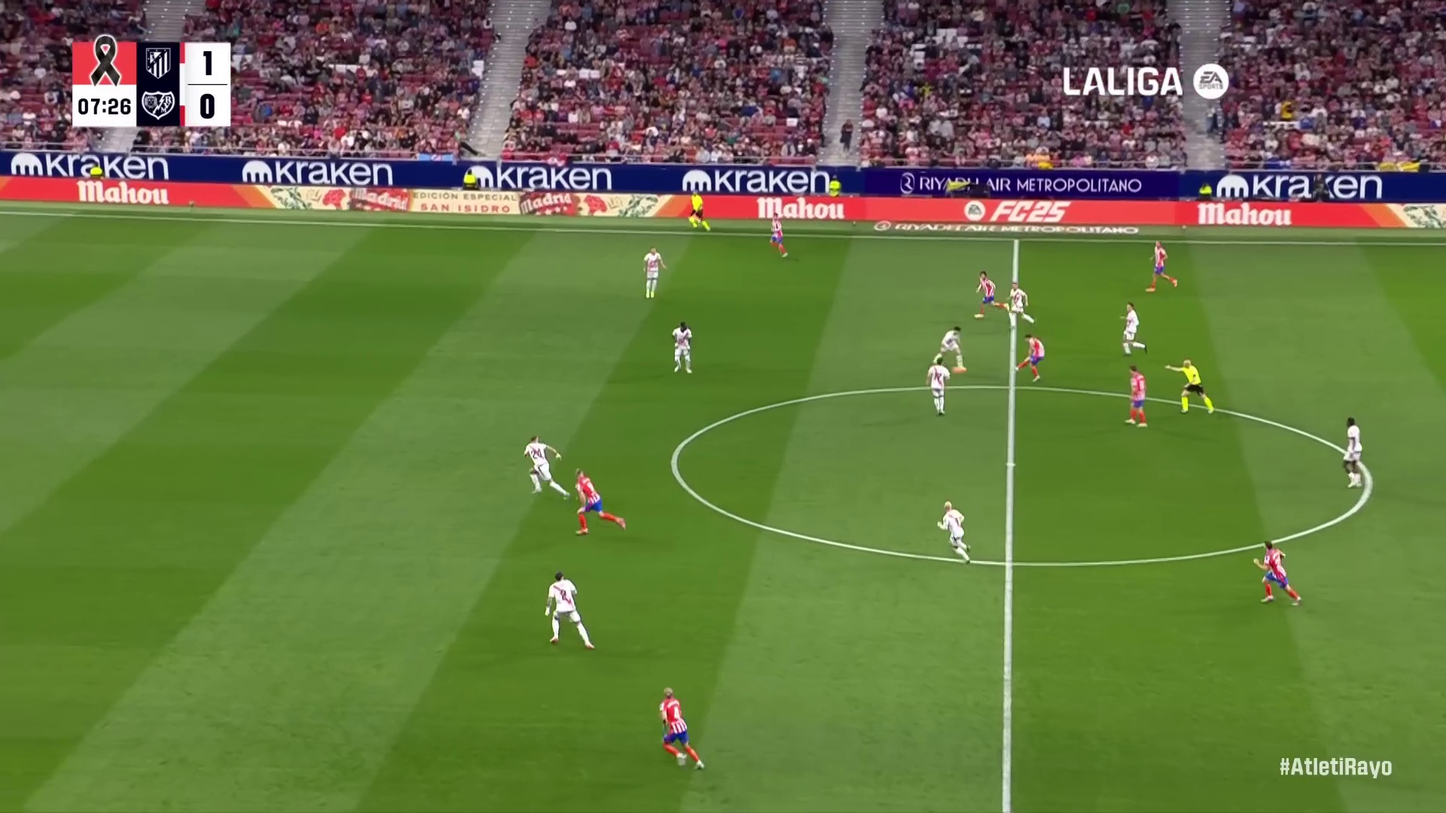ball: (953, 366, 969, 375)
player: (653, 686, 710, 773), (542, 570, 597, 652), (568, 469, 627, 538), (1252, 540, 1303, 609), (520, 434, 569, 500), (1166, 357, 1217, 417), (934, 500, 975, 566), (1337, 415, 1370, 492), (1143, 239, 1179, 294), (1123, 365, 1152, 429), (1118, 300, 1150, 357), (972, 271, 1008, 321), (925, 356, 954, 418), (1013, 332, 1048, 383), (638, 245, 670, 300), (668, 320, 697, 377), (934, 325, 969, 372), (1005, 284, 1039, 326), (766, 214, 791, 260)
referee: (686, 190, 713, 235)
